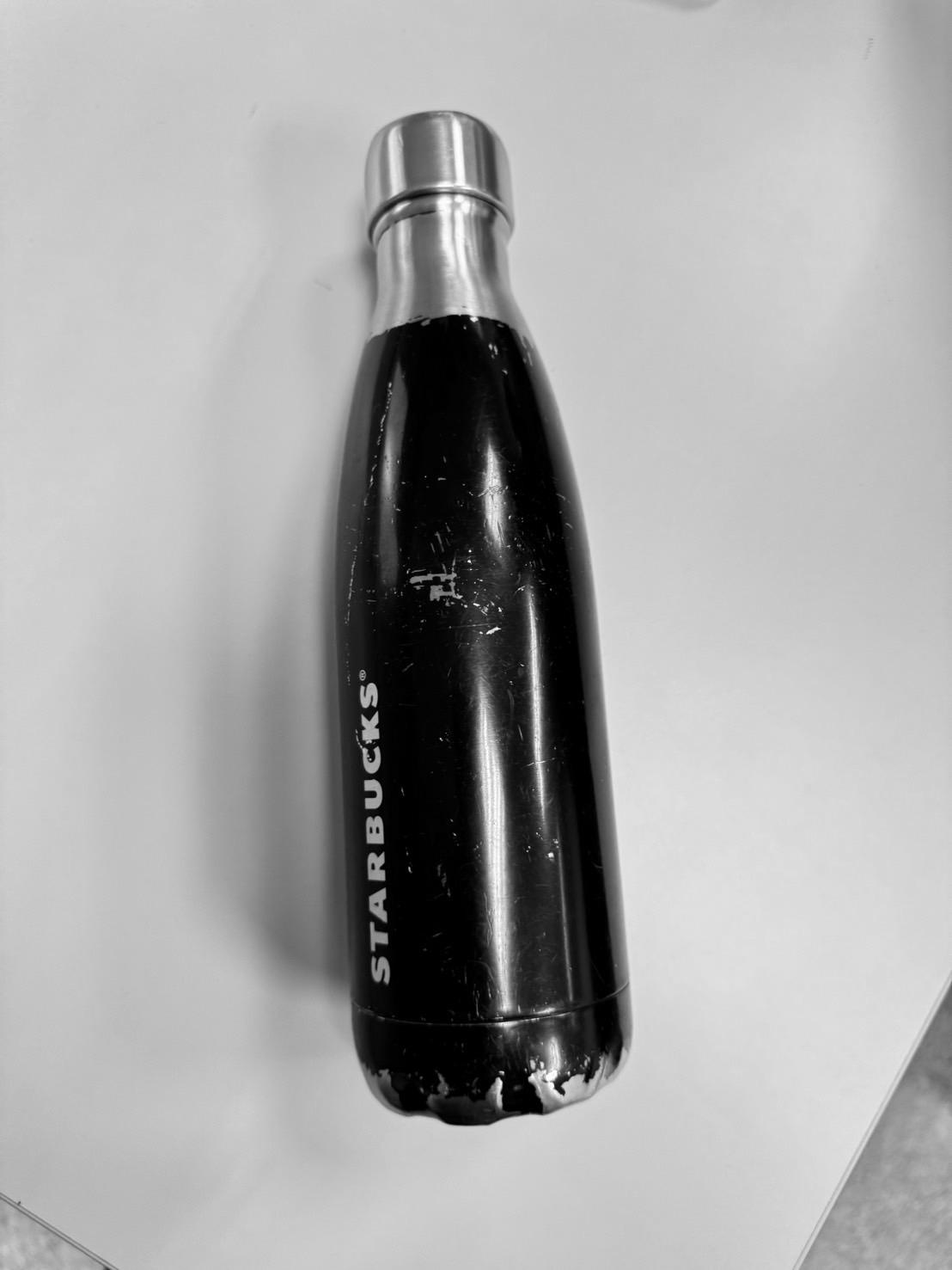bottle: (229, 109, 632, 1128)
